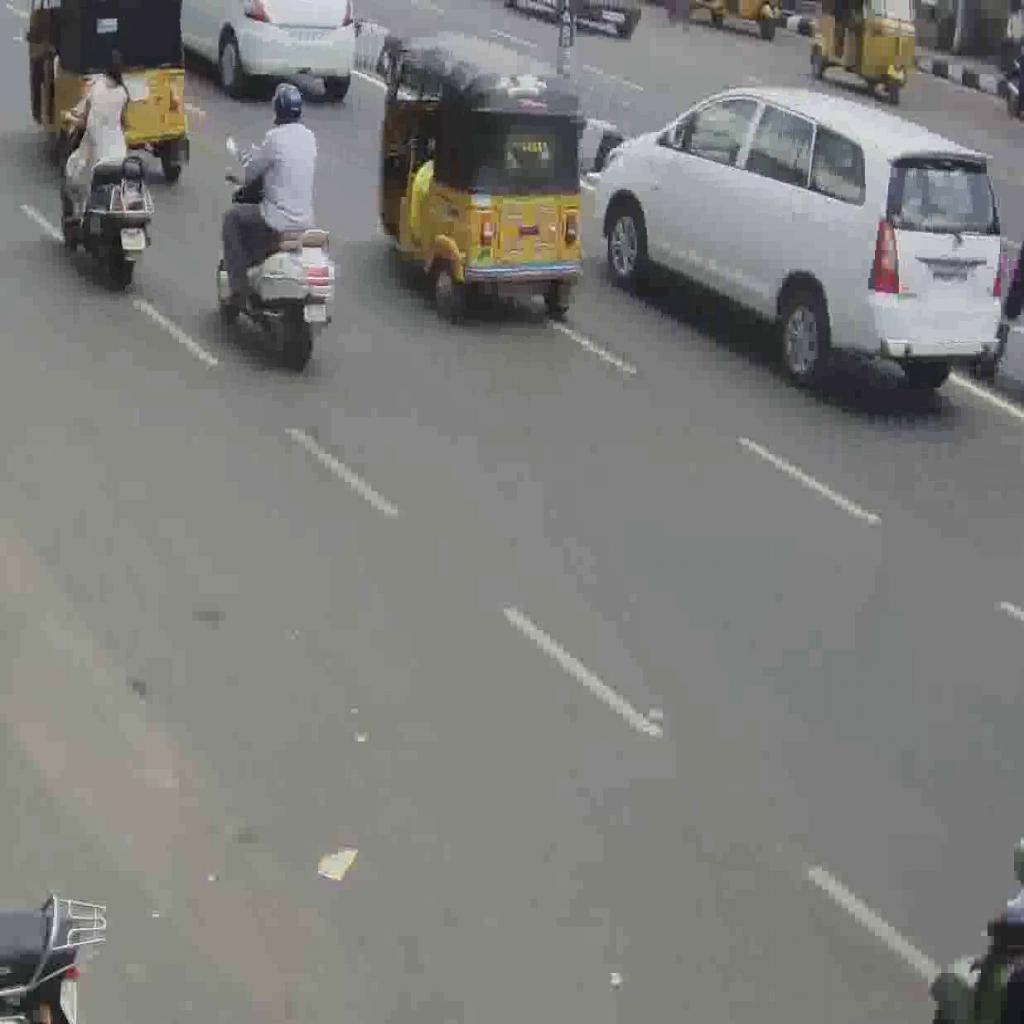helmet: (215, 152, 337, 372), (59, 100, 155, 290)
